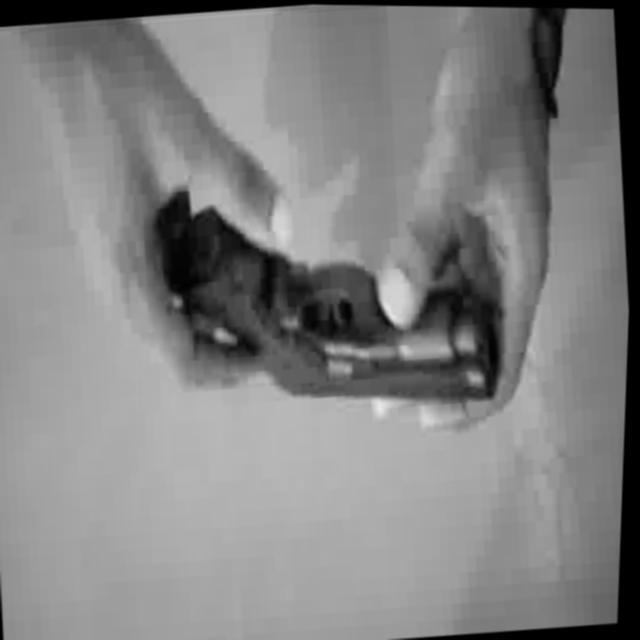weapon: (148, 160, 509, 424)
